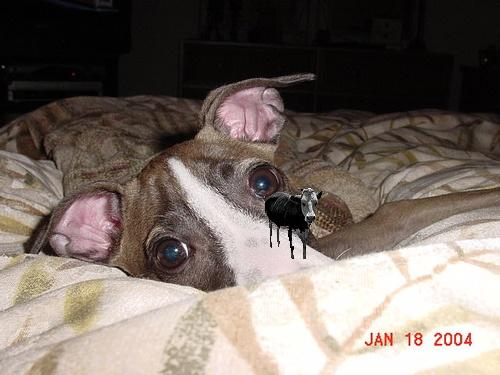tampered: (266, 189, 323, 259)
